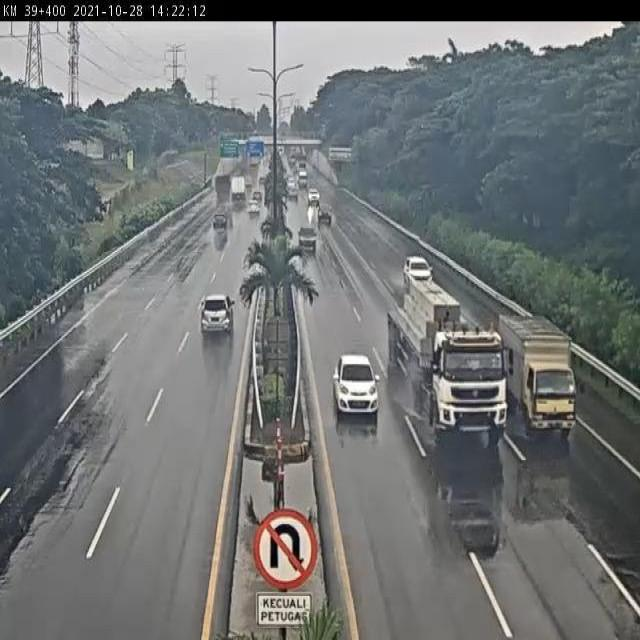car: (329, 352, 382, 423), (201, 294, 233, 334), (403, 253, 437, 286), (210, 210, 229, 233)
truck-s-: (499, 311, 577, 440)
truck-xl-: (389, 278, 509, 442)
